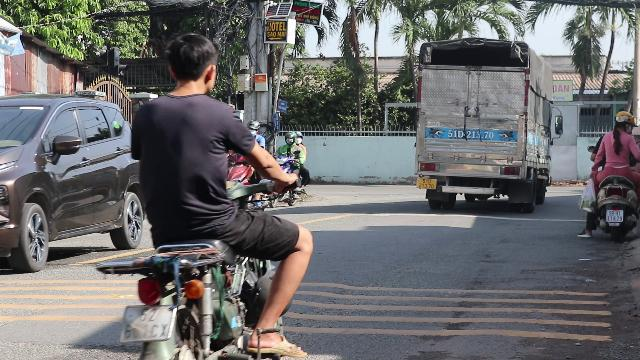helmet: (612, 109, 632, 130)
licenseplate: (122, 304, 172, 340), (606, 210, 624, 222)
motorcyclist: (91, 34, 319, 358), (578, 109, 640, 241)
nohelmet: (164, 34, 218, 94)
